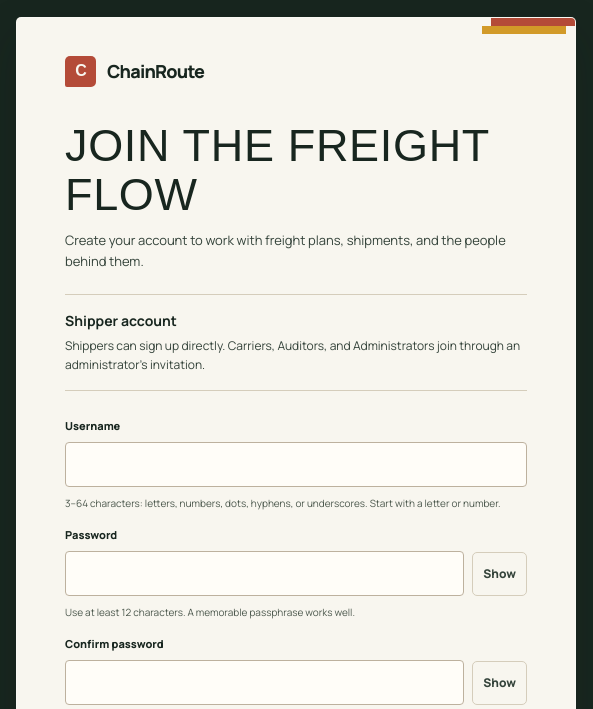
Test: account signup › catches mismatched passwords before a request and supports password visibility
Type "new.shipper" into the field labelled "Username" at {"x": 296, "y": 465}, box [65, 442, 527, 487]
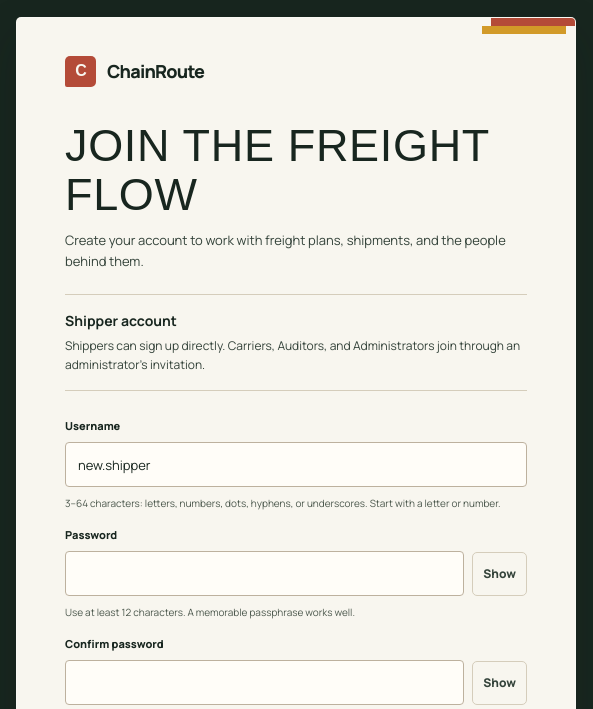
Type "my long freight passphrase" into the password field labelled "Password" at {"x": 265, "y": 574}, box [65, 551, 464, 596]
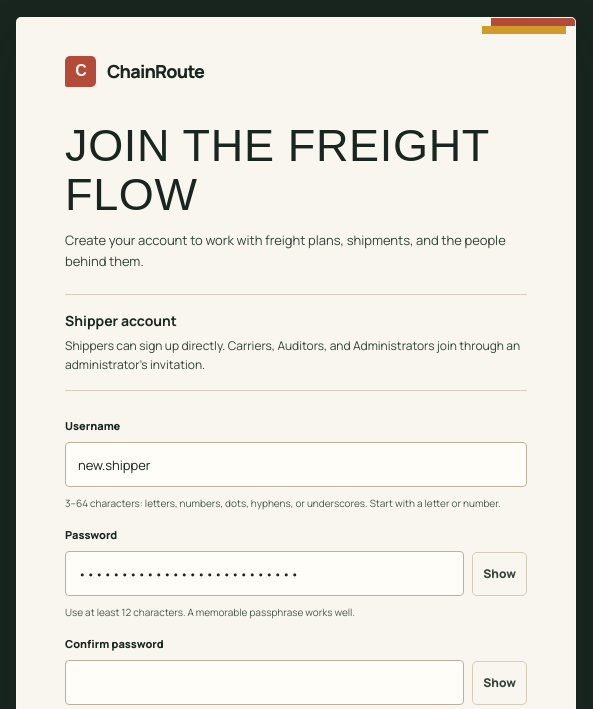
Type "something different" into the password field labelled "Confirm password" at {"x": 265, "y": 683}, box [65, 660, 464, 705]
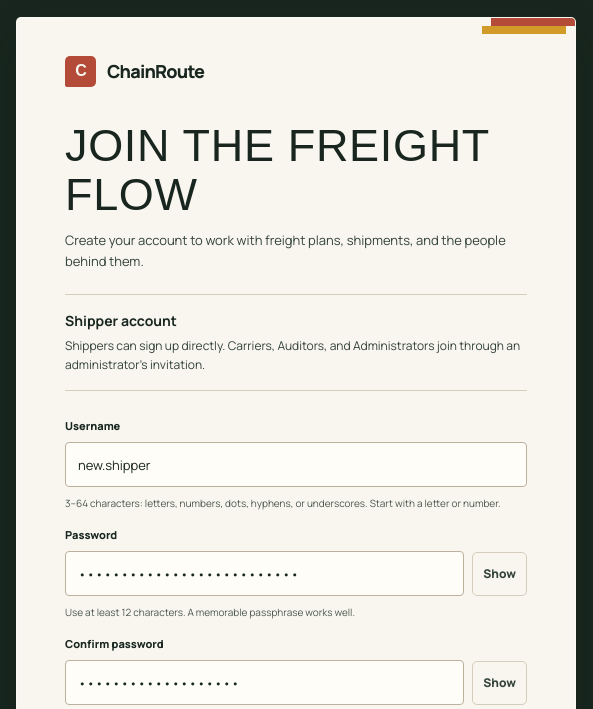
Click the button with aria-label "Show password" at {"x": 500, "y": 574}, box [472, 552, 527, 596]
(page scrolled)
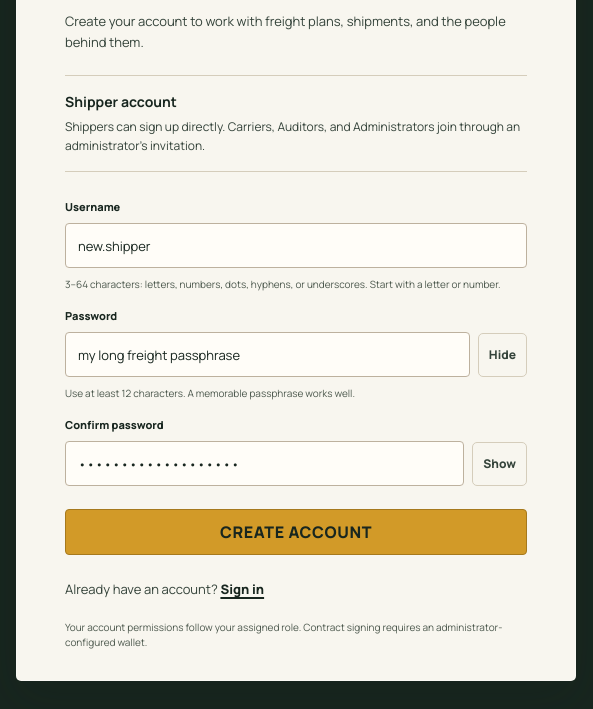
Expected: the field labelled "Password" shows its text, [65, 332, 470, 377]
Click the button "Create account" at {"x": 296, "y": 532}, box [65, 509, 527, 555]
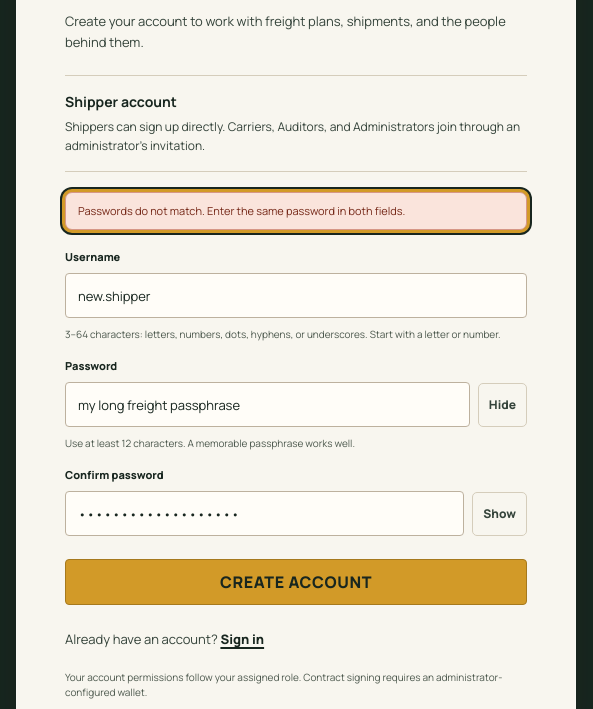
Expected: the message "Passwords do not match. Enter the same password in both fields." is shown, [65, 192, 527, 230]
